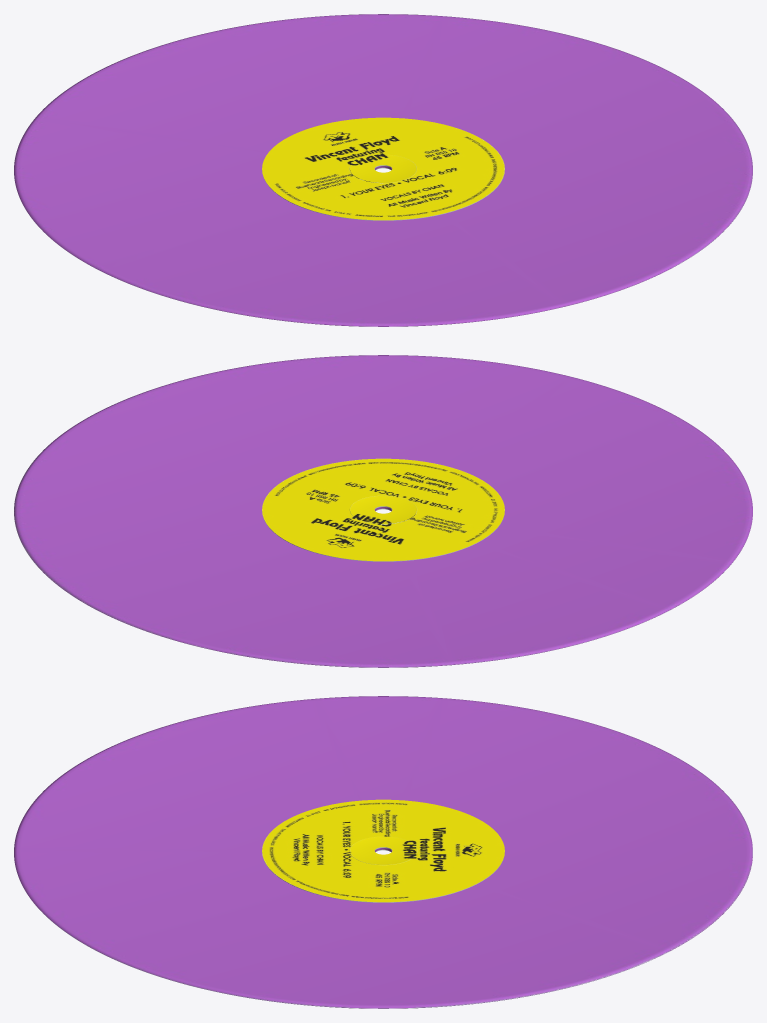
Rendered from vinyl_12_with_labels.dae.
3 views of the same model, one above another, from view 1: azimuth 30°, elevation 25°; view 2: azimuth 150°, elevation 25°; view 3: azimuth 270°, elevation 25° (orthographic).
Parts seen in each view (by area): view 1: vinyl, label; view 2: vinyl, label; view 3: vinyl, label.
Boxes of the visible parts, left/top/right/bottom form: vinyl: left=14, top=14, right=752, bottom=326; label: left=262, top=117, right=504, bottom=220; vinyl: left=14, top=355, right=752, bottom=667; label: left=262, top=458, right=504, bottom=561; vinyl: left=14, top=696, right=752, bottom=1008; label: left=262, top=799, right=504, bottom=902.
Bounding box in the file's own units: 30.3 × 0.154 × 30.3.
2 materials, 2 textured.
